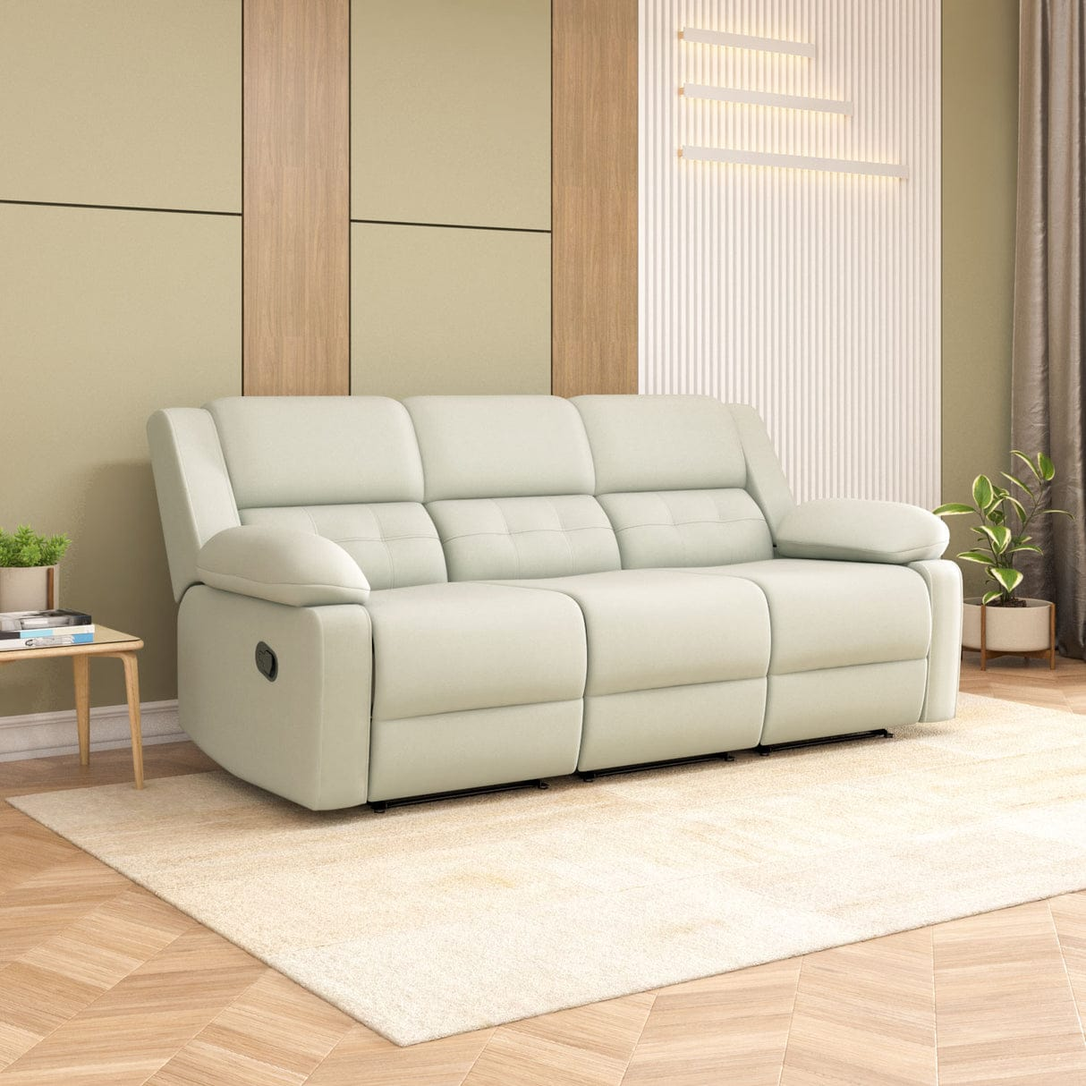3seatersofa: (148, 395, 962, 809)
backrest: (211, 395, 768, 589)
base: (369, 659, 925, 801)
leftarmrest: (725, 405, 947, 564)
leg: (179, 587, 372, 809), (909, 561, 962, 721)
rightarmrest: (148, 408, 369, 607)
seat: (368, 559, 929, 720)
